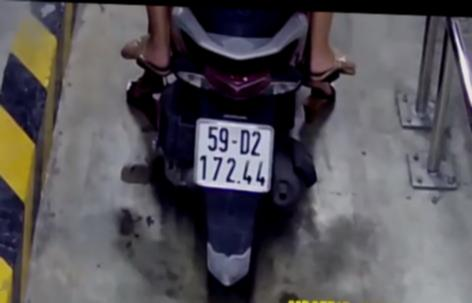License_Plate: (191, 113, 278, 199)
